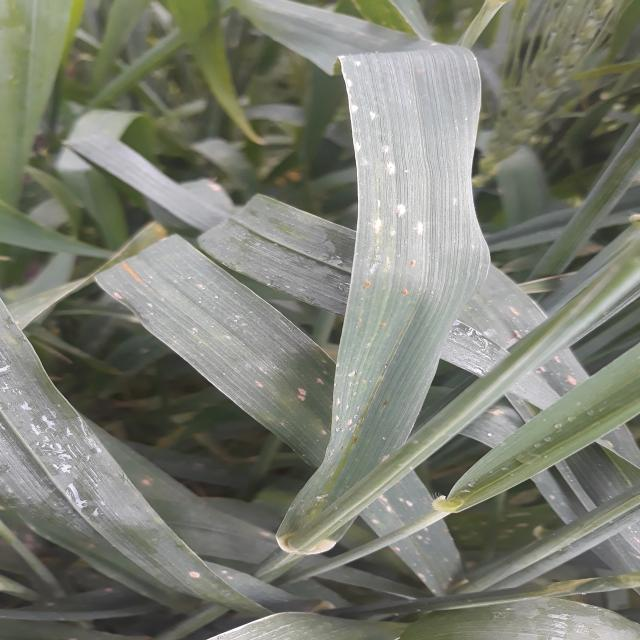powder_mildew: (291, 50, 488, 640), (100, 289, 350, 462), (449, 278, 603, 426), (2, 566, 160, 640), (142, 544, 264, 599), (255, 518, 344, 554), (118, 468, 191, 502)
